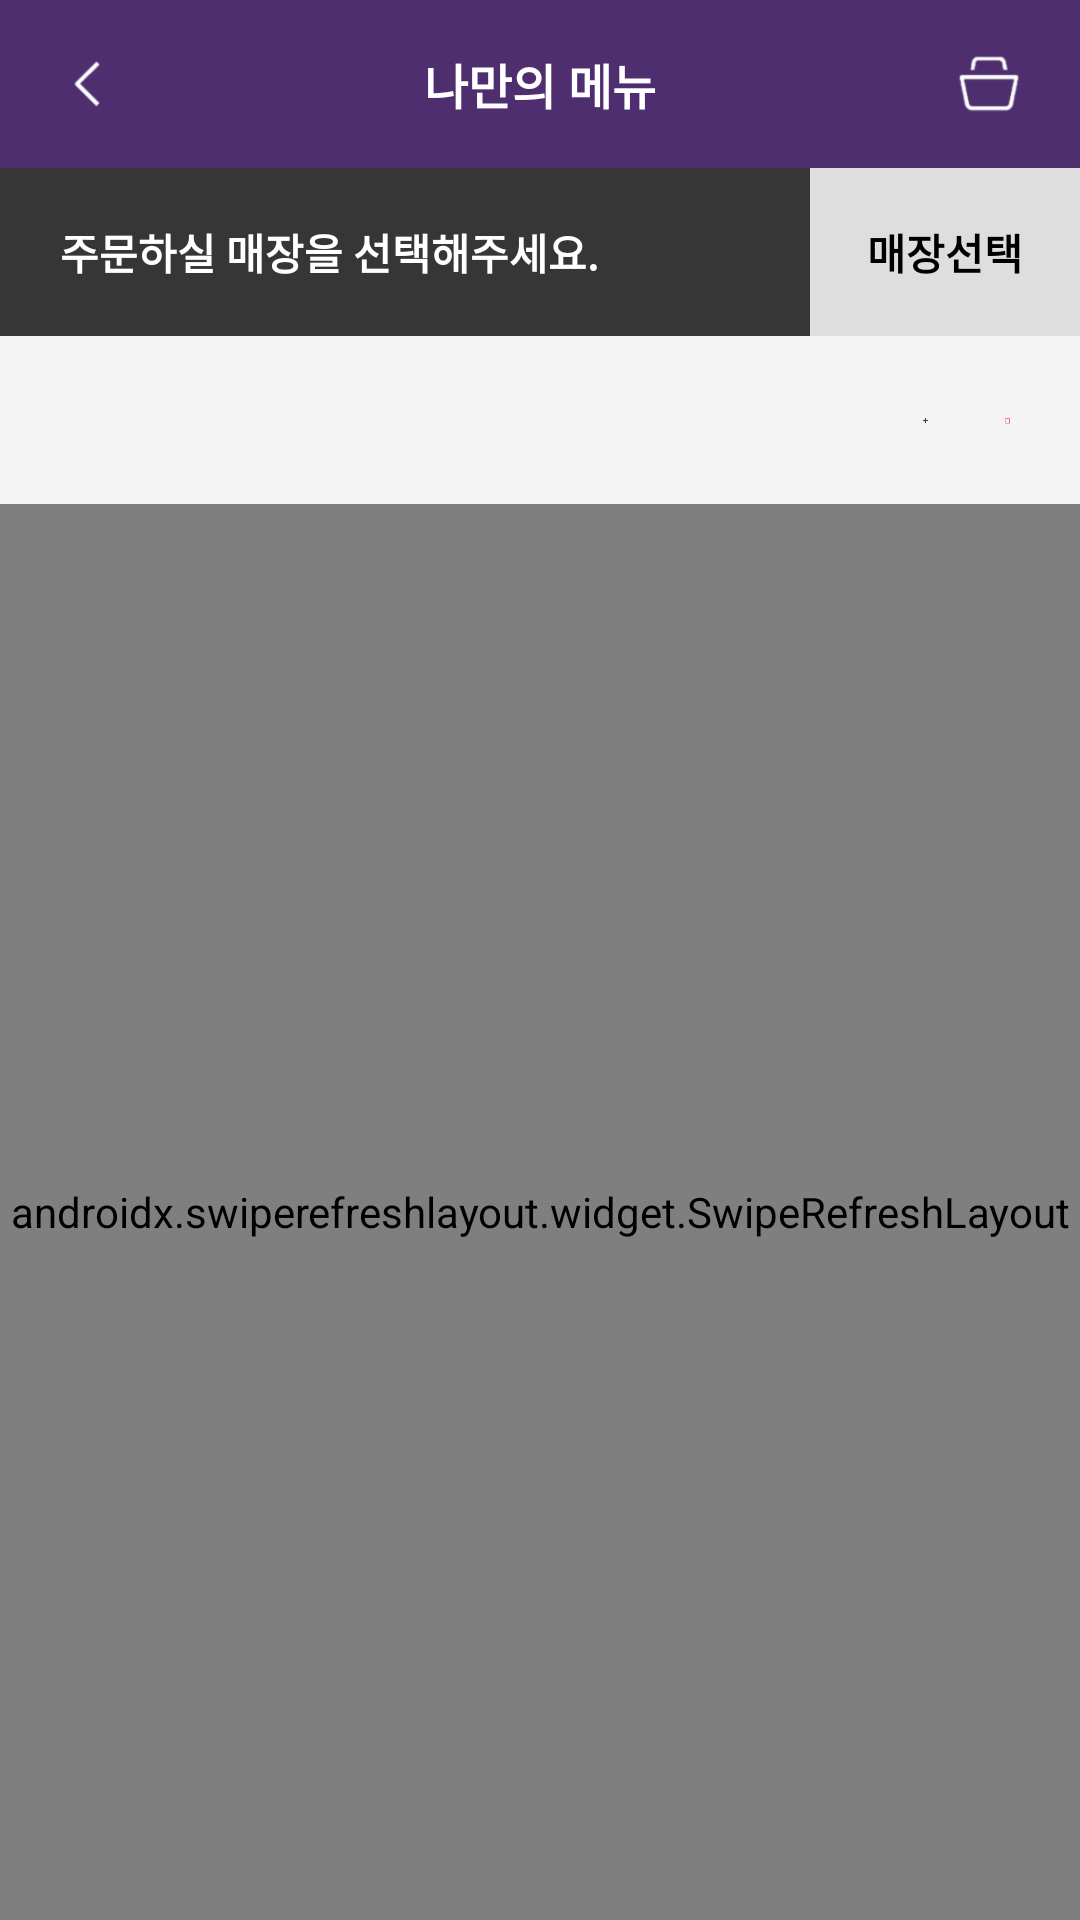

Named icons in this screenshot (1080 x 1920) and their centers, (x=x, y=y):
back: (x=87, y=83)
bag: (x=989, y=83)
